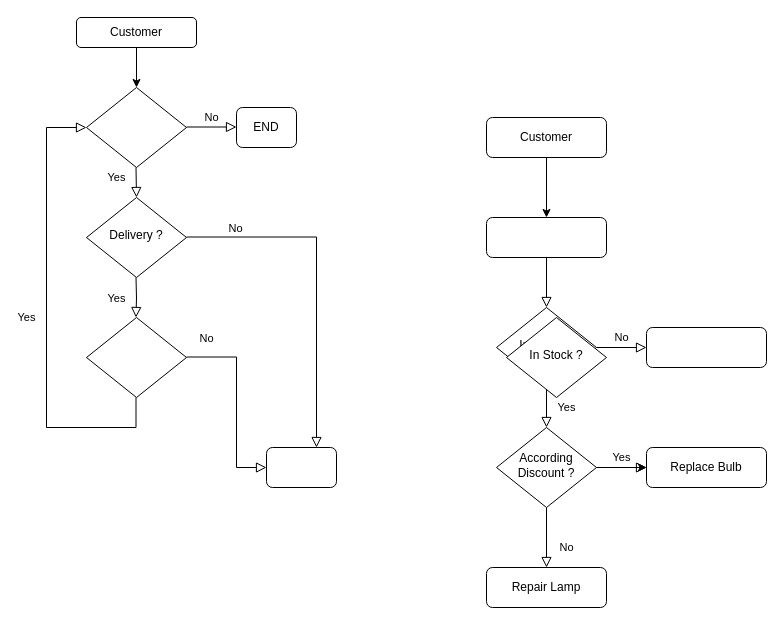
Some shapes in this 784 by 625 pixel diagram are drawn without their labels. The centre of each missing label's shape, as x and y in pixels:
"Invoice" goes at (301,467).
"Order ?" goes at (136,127).
"Re Stock" goes at (706,347).
"Return ?" goes at (136,357).
"Select Product" goes at (546,237).
